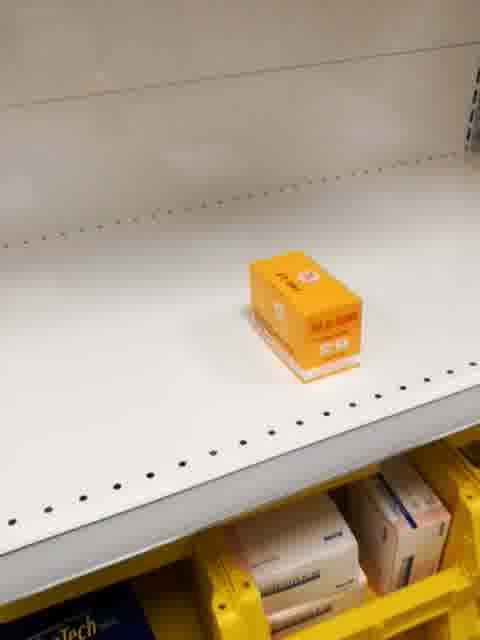jasminetea: (246, 249, 364, 387)
